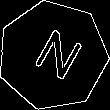N_SW: (22, 24, 83, 87)
